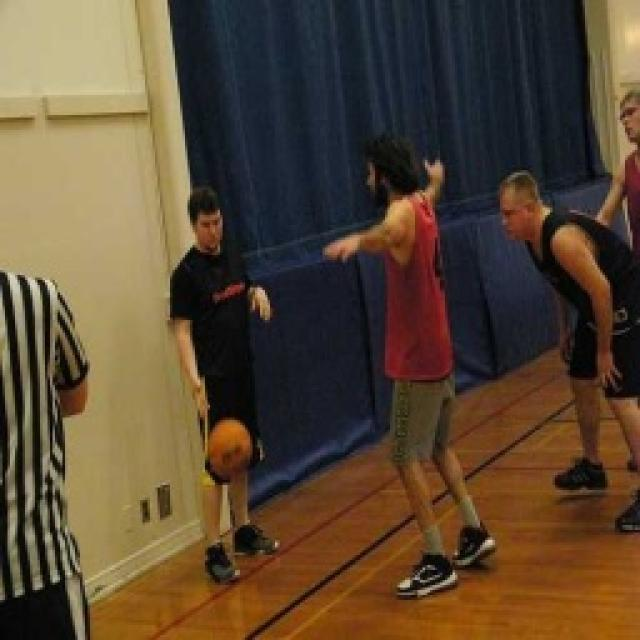rim: (202, 414, 260, 480)
